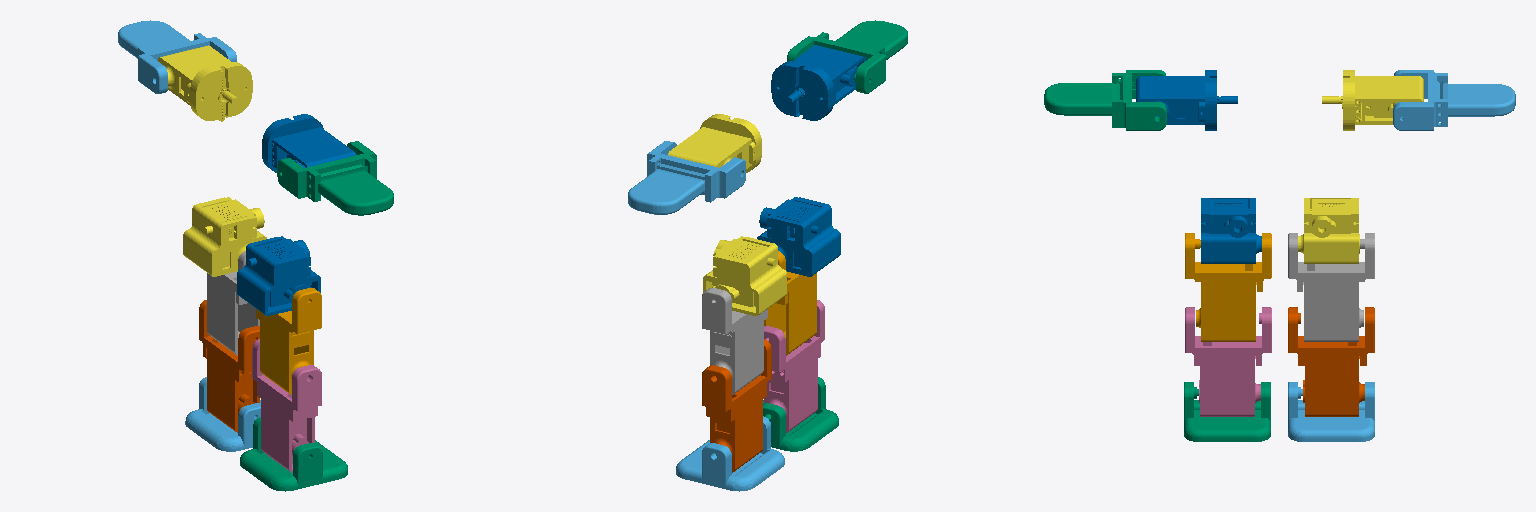
The robot description file, URDF, robot "humanoide_12dof":
<?xml version="1.0"?>
<robot name="humanoide_12dof">
  <link name="torso">
    <inertial><origin xyz="-0.01809 0.00027 0.06021"/><mass value="0.23706"/>
      <inertia ixx="0.000261755" ixy="-8.658e-07" ixz="-1.9638e-05" iyy="0.000278881" iyz="-1.5759e-06" izz="0.000175768"/></inertial>
    <visual><geometry><mesh filename="meshes/torso.stl"/></geometry></visual>
    <collision><geometry><mesh filename="meshes/torso.stl"/></geometry></collision>
  </link>
  <link name="antebraco_L">
    <inertial><origin xyz="-0.00668 0.02866 -3e-05"/><mass value="0.01676"/>
      <inertia ixx="5.9565e-06" ixy="1.676e-07" ixz="-0" iyy="3.5088e-06" iyz="0" izz="9.0447e-06"/></inertial>
    <visual><geometry><mesh filename="meshes/antebraco_L.stl"/></geometry></visual>
    <collision><geometry><mesh filename="meshes/antebraco_L.stl"/></geometry></collision>
  </link>
  <link name="antebraco_R">
    <inertial><origin xyz="0.00581 -0.02869 -3e-05"/><mass value="0.01676"/>
      <inertia ixx="5.9565e-06" ixy="-4.82e-08" ixz="0" iyy="3.5133e-06" iyz="0" izz="9.0492e-06"/></inertial>
    <visual><geometry><mesh filename="meshes/antebraco_R.stl"/></geometry></visual>
    <collision><geometry><mesh filename="meshes/antebraco_R.stl"/></geometry></collision>
  </link>
  <link name="braco_L">
    <inertial><origin xyz="-5e-05 0.03495 -5e-05"/><mass value="0.02715"/>
      <inertia ixx="6.0057e-06" ixy="-1.157e-07" ixz="-3e-10" iyy="2.8934e-06" iyz="-1.22e-08" izz="7.2874e-06"/></inertial>
    <visual><geometry><mesh filename="meshes/braco_L.stl"/></geometry></visual>
    <collision><geometry><mesh filename="meshes/braco_L.stl"/></geometry></collision>
  </link>
  <link name="braco_R">
    <inertial><origin xyz="-6e-05 -0.03516 -3e-05"/><mass value="0.0269"/>
      <inertia ixx="5.8859e-06" ixy="-1.129e-07" ixz="-0" iyy="2.8766e-06" iyz="-0" izz="7.1831e-06"/></inertial>
    <visual><geometry><mesh filename="meshes/braco_R.stl"/></geometry></visual>
    <collision><geometry><mesh filename="meshes/braco_R.stl"/></geometry></collision>
  </link>
  <link name="canela_L">
    <inertial><origin xyz="-5e-05 0.02293 -0.03475"/><mass value="0.02815"/>
      <inertia ixx="1.09227e-05" ixy="-0" ixz="-0" iyy="7.5734e-06" iyz="-3.05e-08" izz="4.5379e-06"/></inertial>
    <visual><geometry><mesh filename="meshes/canela_L.stl"/></geometry></visual>
    <collision><geometry><mesh filename="meshes/canela_L.stl"/></geometry></collision>
  </link>
  <link name="canela_R">
    <inertial><origin xyz="5e-05 -0.0234 -0.03475"/><mass value="0.02815"/>
      <inertia ixx="1.09276e-05" ixy="-0" ixz="-0" iyy="7.5734e-06" iyz="-2.435e-07" izz="4.5428e-06"/></inertial>
    <visual><geometry><mesh filename="meshes/canela_R.stl"/></geometry></visual>
    <collision><geometry><mesh filename="meshes/canela_R.stl"/></geometry></collision>
  </link>
  <link name="coxa_L">
    <inertial><origin xyz="-5e-05 -0.00563 -0.02604"/><mass value="0.01469"/>
      <inertia ixx="7.6347e-06" ixy="0" ixz="0" iyy="4.986e-06" iyz="-5.6e-09" izz="3.49e-06"/></inertial>
    <visual><geometry><mesh filename="meshes/coxa_L.stl"/></geometry></visual>
    <collision><geometry><mesh filename="meshes/coxa_L.stl"/></geometry></collision>
  </link>
  <link name="coxa_R">
    <inertial><origin xyz="-5e-05 0.00563 -0.02604"/><mass value="0.01469"/>
      <inertia ixx="7.6347e-06" ixy="-0" ixz="0" iyy="4.986e-06" iyz="5.6e-09" izz="3.49e-06"/></inertial>
    <visual><geometry><mesh filename="meshes/coxa_R.stl"/></geometry></visual>
    <collision><geometry><mesh filename="meshes/coxa_R.stl"/></geometry></collision>
  </link>
  <link name="pe_L">
    <inertial><origin xyz="0.00381 0.00631 -0.01322"/><mass value="0.01376"/>
      <inertia ixx="4.224e-06" ixy="-1.75e-08" ixz="1.221e-07" iyy="2.847e-06" iyz="7.91e-08" izz="6.1305e-06"/></inertial>
    <visual><geometry><mesh filename="meshes/pe_L.stl"/></geometry></visual>
    <collision><geometry><mesh filename="meshes/pe_L.stl"/></geometry></collision>
  </link>
  <link name="pe_R">
    <inertial><origin xyz="0.00381 0.00631 -0.01322"/><mass value="0.01376"/>
      <inertia ixx="4.224e-06" ixy="-1.75e-08" ixz="1.221e-07" iyy="2.847e-06" iyz="7.91e-08" izz="6.1305e-06"/></inertial>
    <visual><geometry><mesh filename="meshes/pe_R.stl"/></geometry></visual>
    <collision><geometry><mesh filename="meshes/pe_R.stl"/></geometry></collision>
  </link>
  <link name="quadril_L">
    <inertial><origin xyz="-0.00792 0.00534 -0.00915"/><mass value="0.03647"/>
      <inertia ixx="5.3739e-06" ixy="5.6e-09" ixz="-3.346e-07" iyy="5.7445e-06" iyz="5e-10" izz="5.3355e-06"/></inertial>
    <visual><geometry><mesh filename="meshes/quadril_L.stl"/></geometry></visual>
    <collision><geometry><mesh filename="meshes/quadril_L.stl"/></geometry></collision>
  </link>
  <link name="quadril_R">
    <inertial><origin xyz="-0.00792 -0.00534 -0.00915"/><mass value="0.03647"/>
      <inertia ixx="5.3739e-06" ixy="-5.6e-09" ixz="-3.346e-07" iyy="5.7445e-06" iyz="-5e-10" izz="5.3355e-06"/></inertial>
    <visual><geometry><mesh filename="meshes/quadril_R.stl"/></geometry></visual>
    <collision><geometry><mesh filename="meshes/quadril_R.stl"/></geometry></collision>
  </link>
  <joint name="quadril_roll_L" type="revolute">
    <parent link="torso"/><child link="quadril_L"/>
    <origin xyz="0 0.025 0"/><axis xyz="1 0 0"/>
    <limit lower="-1.5708" upper="1.5708" effort="0.21" velocity="10.5"/>
  </joint>
  <joint name="quadril_pitch_L" type="revolute">
    <parent link="quadril_L"/><child link="coxa_L"/>
    <origin xyz="-0.0034 0.0118 -0.0163"/><axis xyz="0 1 0"/>
    <limit lower="-1.5708" upper="1.5708" effort="0.21" velocity="10.5"/>
  </joint>
  <joint name="joelho_L" type="revolute">
    <parent link="coxa_L"/><child link="canela_L"/>
    <origin xyz="0 -0.0293 -0.0486"/><axis xyz="0 1 0"/>
    <limit lower="-1.5708" upper="1.5708" effort="0.21" velocity="10.5"/>
  </joint>
  <joint name="tornozelo_L" type="revolute">
    <parent link="canela_L"/><child link="pe_L"/>
    <origin xyz="-0.0001 0.0164 -0.0486"/><axis xyz="0 1 0"/>
    <limit lower="-1.5708" upper="1.5708" effort="0.21" velocity="10.5"/>
  </joint>
  <joint name="quadril_roll_R" type="revolute">
    <parent link="torso"/><child link="quadril_R"/>
    <origin xyz="0 -0.025 0"/><axis xyz="1 0 0"/>
    <limit lower="-1.5708" upper="1.5708" effort="0.21" velocity="10.5"/>
  </joint>
  <joint name="quadril_pitch_R" type="revolute">
    <parent link="quadril_R"/><child link="coxa_R"/>
    <origin xyz="-0.0034 -0.0118 -0.0163"/><axis xyz="0 1 0"/>
    <limit lower="-1.5708" upper="1.5708" effort="0.21" velocity="10.5"/>
  </joint>
  <joint name="joelho_R" type="revolute">
    <parent link="coxa_R"/><child link="canela_R"/>
    <origin xyz="-0.0001 0.0293 -0.0486"/><axis xyz="0 1 0"/>
    <limit lower="-1.5708" upper="1.5708" effort="0.21" velocity="10.5"/>
  </joint>
  <joint name="tornozelo_R" type="revolute">
    <parent link="canela_R"/><child link="pe_R"/>
    <origin xyz="0 -0.0303 -0.0486"/><axis xyz="0 1 0"/>
    <limit lower="-1.5708" upper="1.5708" effort="0.21" velocity="10.5"/>
  </joint>
  <joint name="ombro_L" type="revolute">
    <parent link="torso"/><child link="braco_L"/>
    <origin xyz="-0.0055 0.025 0.0766"/><axis xyz="0 1 0"/>
    <limit lower="-1.5708" upper="1.5708" effort="0.21" velocity="10.5"/>
  </joint>
  <joint name="cotovelo_L" type="revolute">
    <parent link="braco_L"/><child link="antebraco_L"/>
    <origin xyz="0.0067 0.0472 0"/><axis xyz="1 0 0"/>
    <limit lower="-1.5708" upper="1.5708" effort="0.21" velocity="10.5"/>
  </joint>
  <joint name="ombro_R" type="revolute">
    <parent link="torso"/><child link="braco_R"/>
    <origin xyz="-0.0055 -0.025 0.0766"/><axis xyz="0 1 0"/>
    <limit lower="-1.5708" upper="1.5708" effort="0.21" velocity="10.5"/>
  </joint>
  <joint name="cotovelo_R" type="revolute">
    <parent link="braco_R"/><child link="antebraco_R"/>
    <origin xyz="-0.0068 -0.0472 0"/><axis xyz="1 0 0"/>
    <limit lower="-1.5708" upper="1.5708" effort="0.21" velocity="10.5"/>
  </joint>
</robot>

--- What the picture shows (computed from the rendered views, not written in the file) ---
The picture shows the robot from 3 angles, left to right: view 1: azimuth 30°, elevation 25°; view 2: azimuth 150°, elevation 25°; view 3: azimuth 270°, elevation 25°; orthographic projection.
Model humanoide_12dof with 13 links and 12 joints (12 revolute), rooted at torso, posed all joints at 0.
Links seen in each view (by area): view 1: antebraco_R, canela_R, braco_L, quadril_R, quadril_L, coxa_R, canela_L, pe_R, antebraco_L, braco_R, coxa_L, pe_L; view 2: antebraco_L, canela_L, braco_R, quadril_L, quadril_R, coxa_L, canela_R, antebraco_R, pe_L, braco_L, coxa_R, pe_R; view 3: coxa_R, coxa_L, canela_R, canela_L, antebraco_R, antebraco_L, quadril_L, quadril_R, braco_L, braco_R, pe_L, pe_R.
Boxes of the visible links, left/top/right/bottom form: antebraco_R: left=277, top=141, right=393, bottom=215; canela_R: left=252, top=339, right=321, bottom=472; braco_L: left=158, top=45, right=252, bottom=121; quadril_R: left=237, top=236, right=320, bottom=315; quadril_L: left=183, top=197, right=266, bottom=276; coxa_R: left=256, top=288, right=321, bottom=394; canela_L: left=199, top=300, right=259, bottom=432; pe_R: left=240, top=417, right=347, bottom=491; antebraco_L: left=118, top=20, right=236, bottom=93; braco_R: left=262, top=114, right=355, bottom=172; coxa_L: left=207, top=251, right=259, bottom=355; pe_L: left=185, top=377, right=260, bottom=451; antebraco_L: left=628, top=141, right=745, bottom=214; canela_L: left=702, top=339, right=771, bottom=472; braco_R: left=771, top=45, right=865, bottom=120; quadril_L: left=703, top=236, right=786, bottom=315; quadril_R: left=757, top=197, right=840, bottom=276; coxa_L: left=702, top=288, right=767, bottom=394; canela_R: left=764, top=300, right=824, bottom=432; antebraco_R: left=787, top=20, right=907, bottom=93; pe_L: left=676, top=416, right=784, bottom=491; braco_L: left=668, top=114, right=761, bottom=172; coxa_R: left=764, top=251, right=816, bottom=355; pe_R: left=763, top=377, right=838, bottom=451; coxa_R: left=1185, top=233, right=1271, bottom=341; coxa_L: left=1288, top=233, right=1374, bottom=341; canela_R: left=1185, top=307, right=1271, bottom=416; canela_L: left=1288, top=307, right=1374, bottom=416; antebraco_R: left=1044, top=70, right=1166, bottom=130; antebraco_L: left=1393, top=70, right=1515, bottom=130; quadril_L: left=1298, top=198, right=1359, bottom=263; quadril_R: left=1201, top=198, right=1261, bottom=263; braco_L: left=1322, top=70, right=1423, bottom=130; braco_R: left=1136, top=70, right=1237, bottom=130; pe_L: left=1288, top=382, right=1374, bottom=441; pe_R: left=1184, top=382, right=1270, bottom=441.
Size in the robot's own frame: 0.057 by 0.2788 by 0.2244 metres.
12 mesh visuals loaded from 13 distinct referenced files (12 binary STL); not drawn: 1 (reference not matched to a file when rendering).
